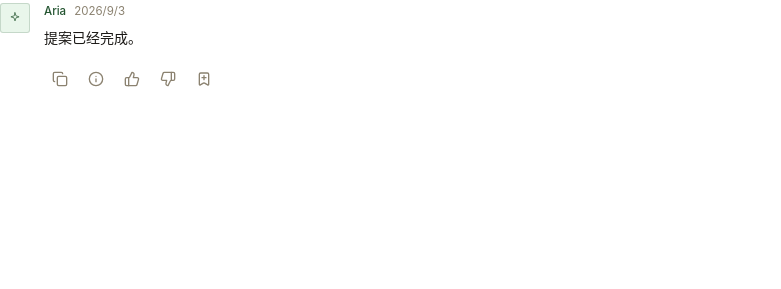
ProjectChatMessage › shows the exact Skill release, loaded resources, tool boundary, and verification receipt
Click the button named "查看回答详情": (96, 79) [80,63,112,95]
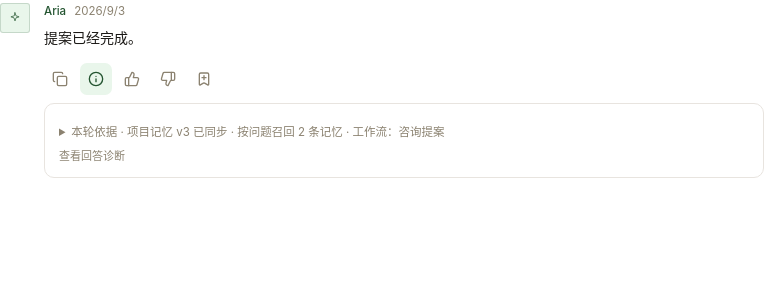
Click the heading "工作流：咨询提案": (258, 132) [71,125,445,139]
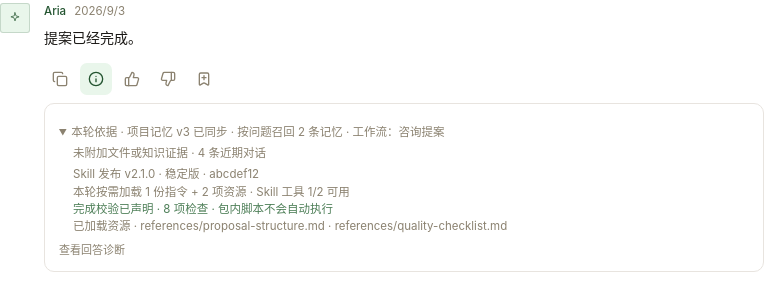
Result: the element named "Skill 本轮加载回执" shows "Skill 发布 v2.1.0 · 稳定版 · abcdef12" at [73,167,507,233]
Result: the element named "Skill 本轮加载回执" shows "本轮按需加载 1 份指令 + 2 项资源" at [73,167,507,233]
Result: the element named "Skill 本轮加载回执" shows "Skill 工具 1/2 可用" at [246,184,350,198]
